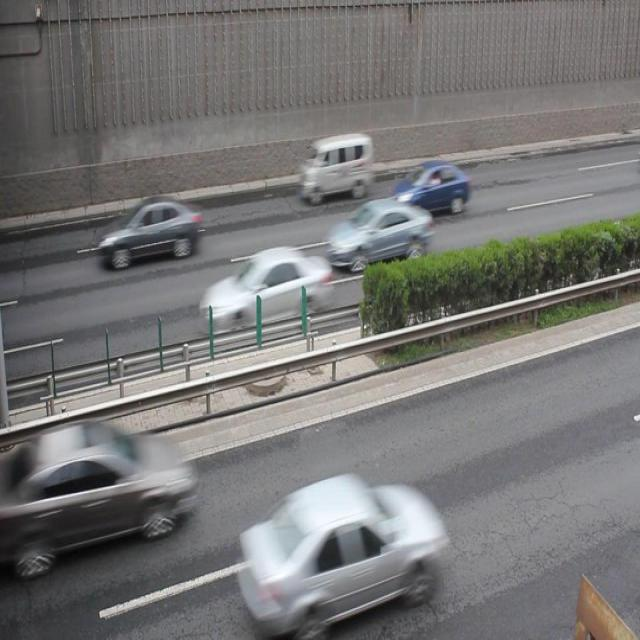car: (237, 475, 442, 640), (27, 420, 187, 560), (202, 246, 332, 334), (99, 196, 198, 270), (327, 201, 430, 268), (392, 160, 468, 215)
truck: (299, 130, 370, 204)
